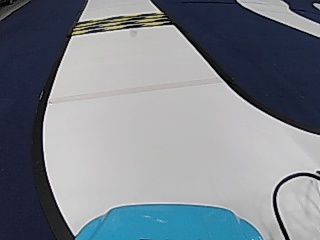bump: (86, 11, 166, 36)
